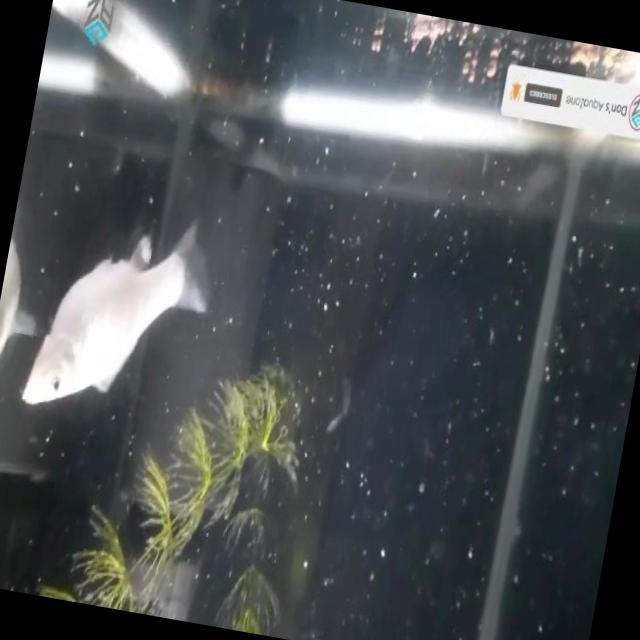PlatyFish: (11, 174, 232, 445)
